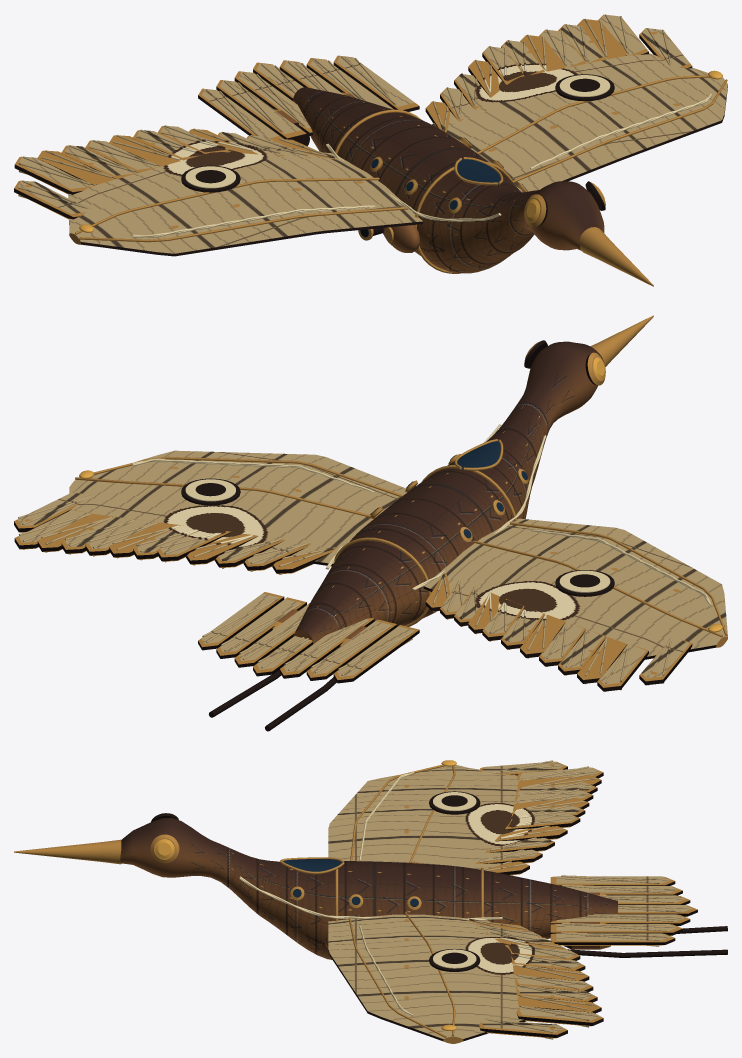
3 renders of one model, top to bottom at view 1: azimuth 30°, elevation 25°; view 2: azimuth 150°, elevation 25°; view 3: azimuth 270°, elevation 25°, orthographic. The views are drawn at different scales.
Visible parts, largest first — view 1: egret_hull; view 2: egret_hull; view 3: egret_hull.
Part boxes in pixels (x1,y1,x2,y2): egret_hull: [14, 14, 727, 286]; egret_hull: [14, 315, 727, 731]; egret_hull: [14, 760, 727, 1043].
Size of the model in its own units: 36.2 by 8.53 by 40.
Materials: 1 (1 with a texture image).
